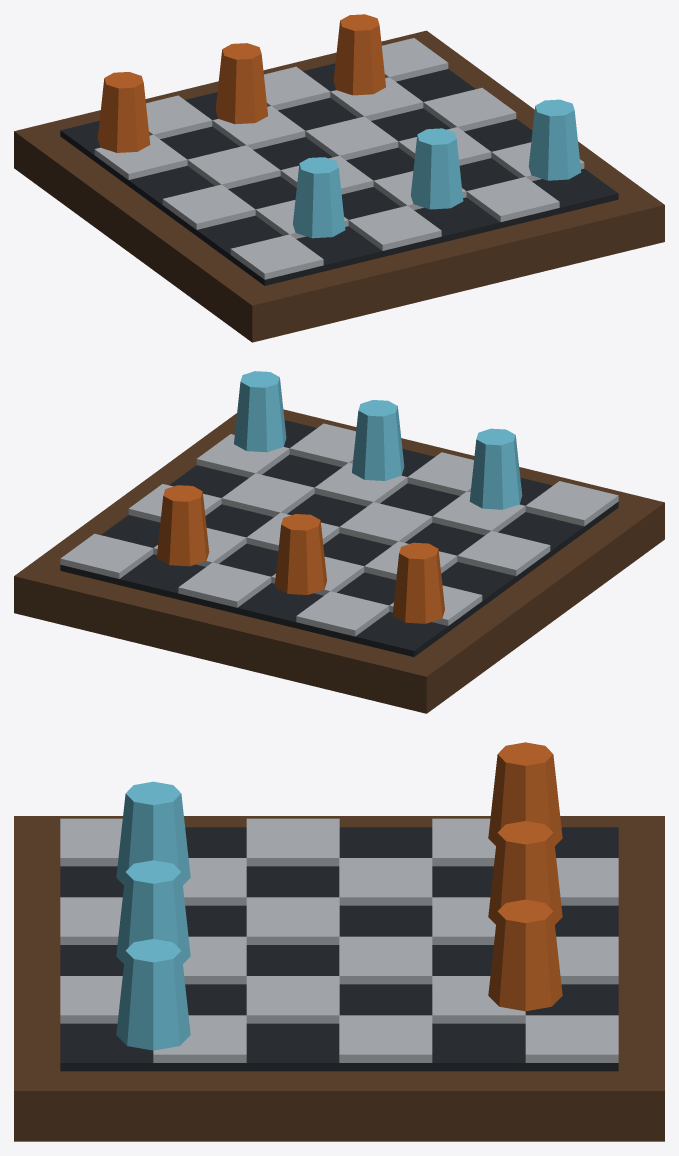
Rendered from kirgatz-set.glb.
The picture shows the model from 3 angles, top to bottom: view 1: azimuth 30°, elevation 25°; view 2: azimuth 150°, elevation 25°; view 3: azimuth 270°, elevation 25°; orthographic projection. The views are drawn at different scales.
Parts seen in each view (by area): view 1: m; view 2: m; view 3: m.
Part boxes in pixels (x1,y1,x2,y2): m: [14, 14, 664, 342]; m: [14, 371, 664, 713]; m: [14, 742, 664, 1141].
Size of the model in its own units: 0.14 by 0.036 by 0.14.
